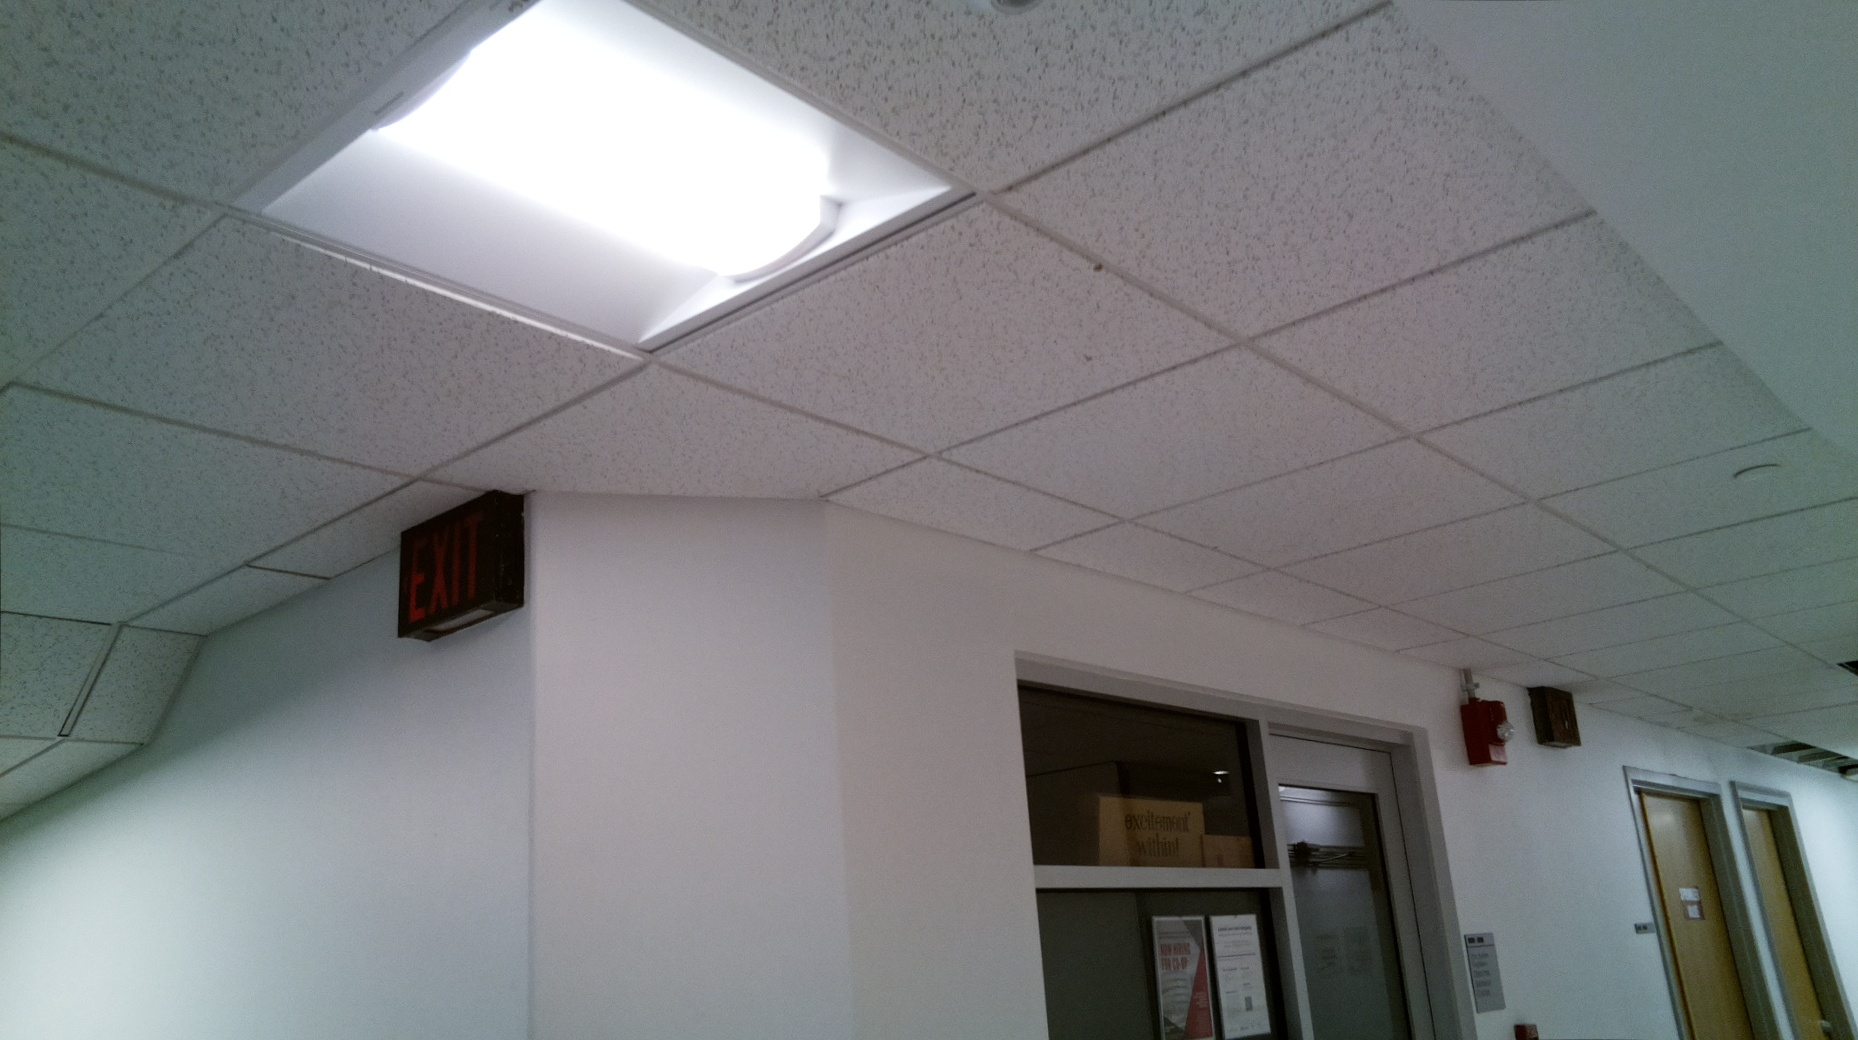exit sign: (390, 482, 533, 650), (1522, 684, 1584, 752)
